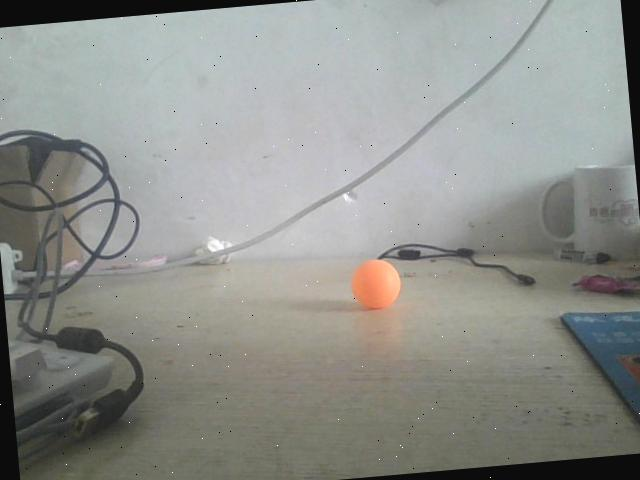ball: (348, 257, 401, 310)
